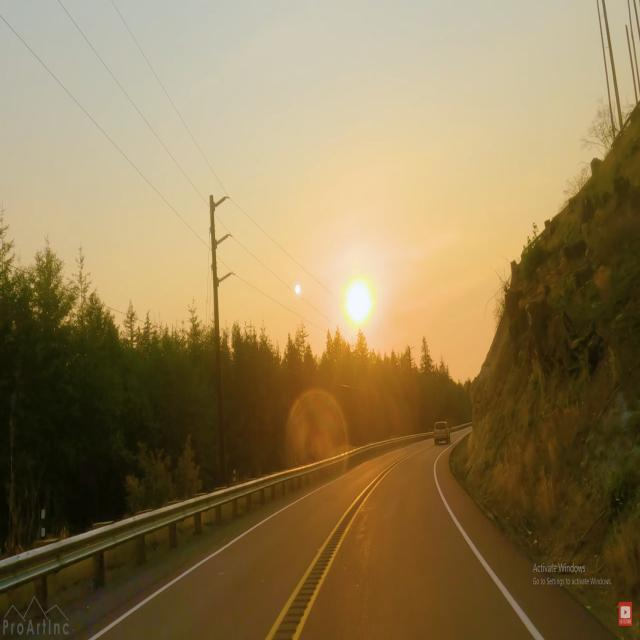sun: (334, 268, 386, 342)
